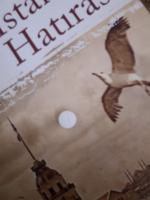Arveles: (57, 109, 77, 130)
